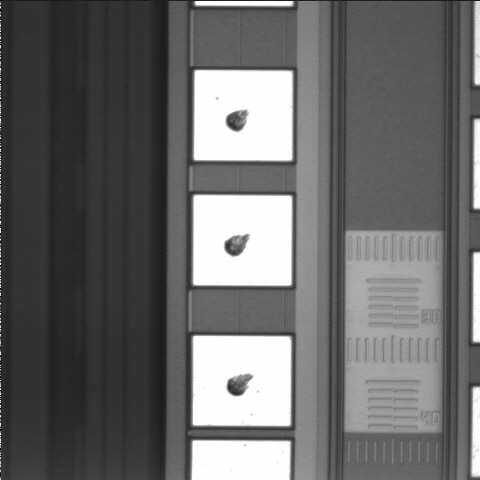pad: (194, 70, 293, 161), (193, 195, 292, 286), (193, 336, 291, 426)
